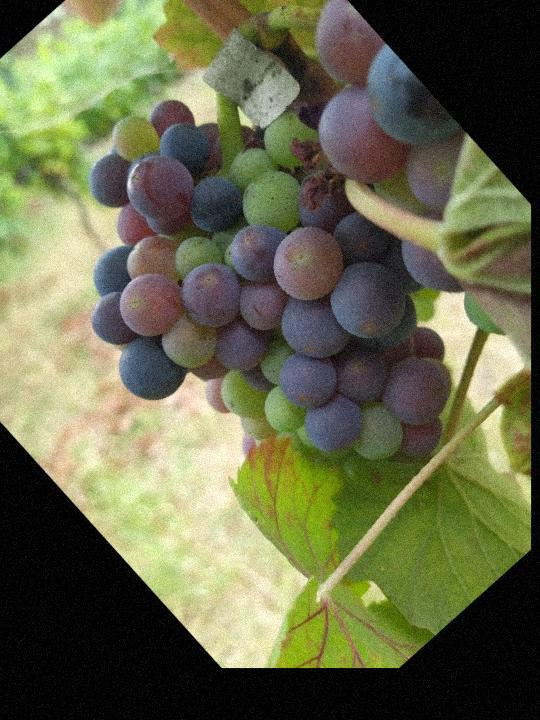grape: (0, 34, 519, 580)
